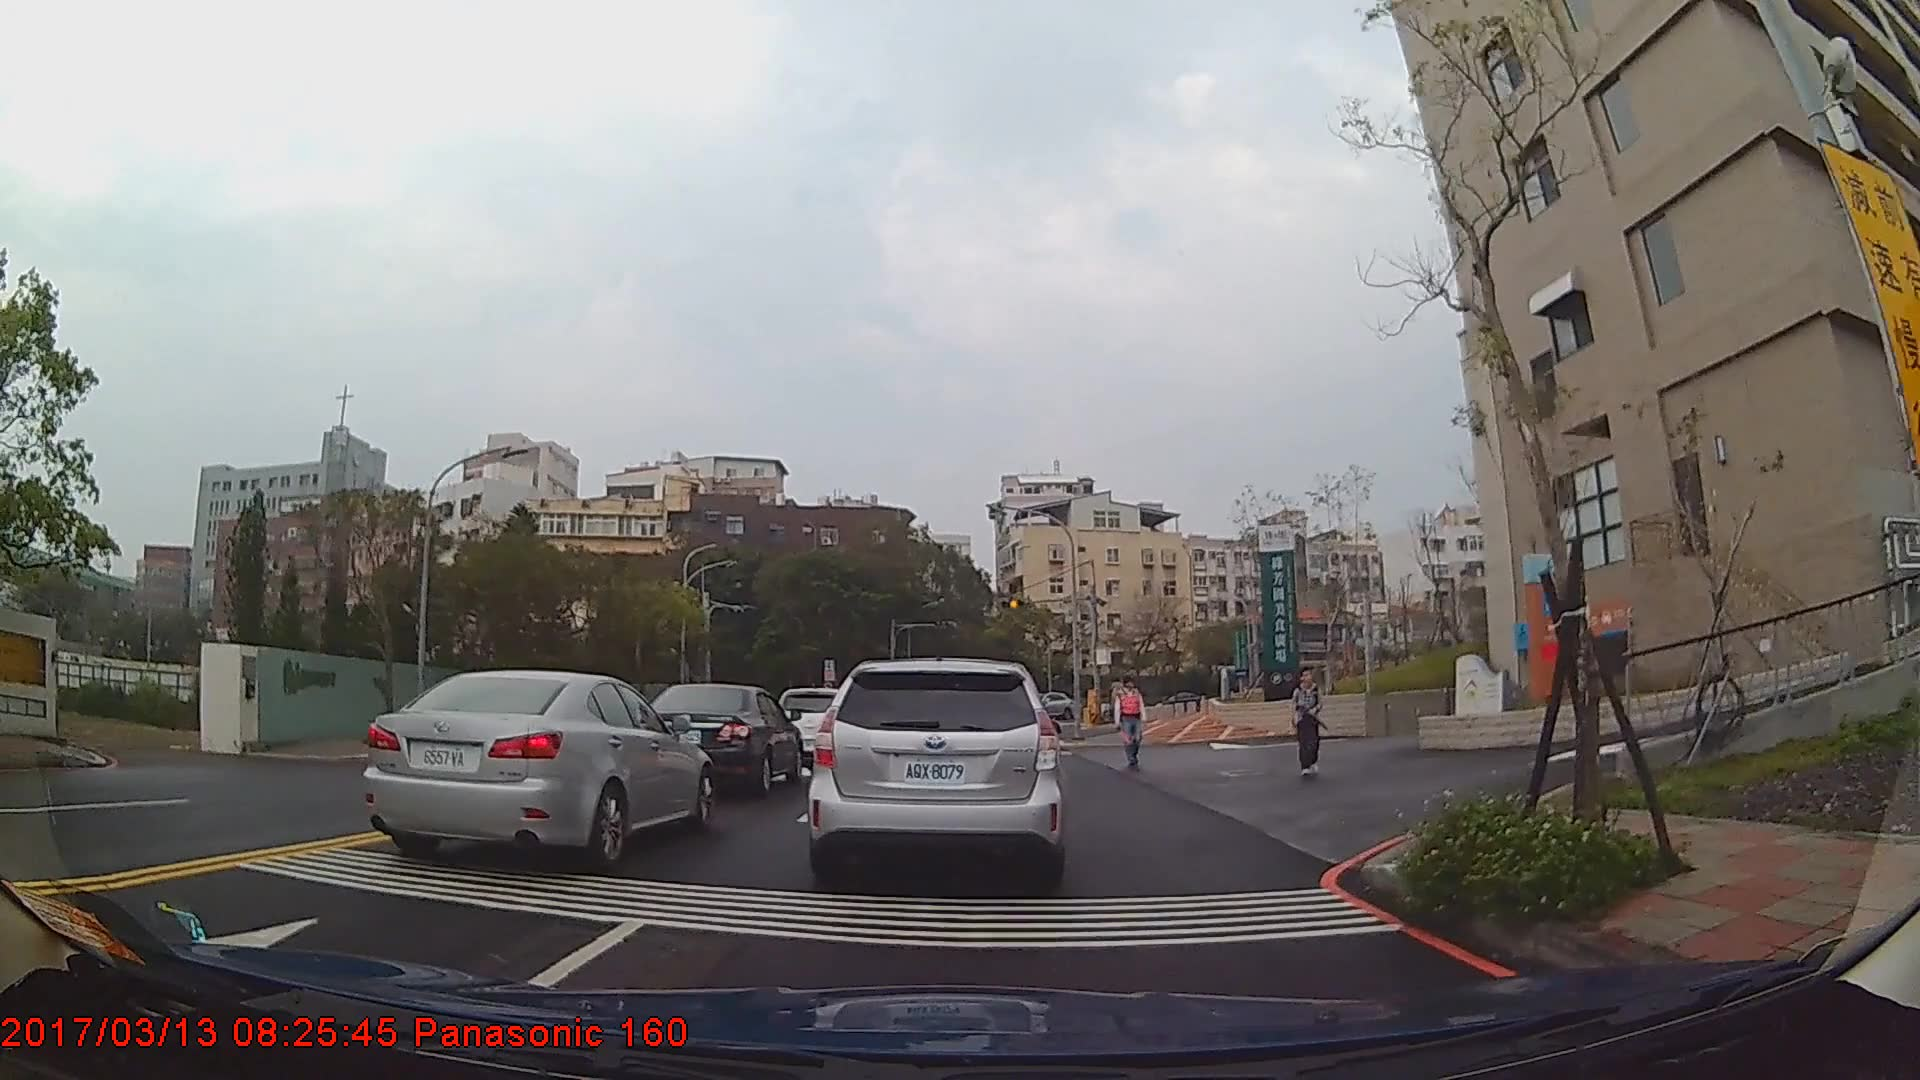pedestrian: (1294, 672, 1327, 777), (1118, 676, 1145, 769)
vehicle: (363, 669, 713, 865), (804, 655, 1065, 877), (643, 681, 804, 792)
